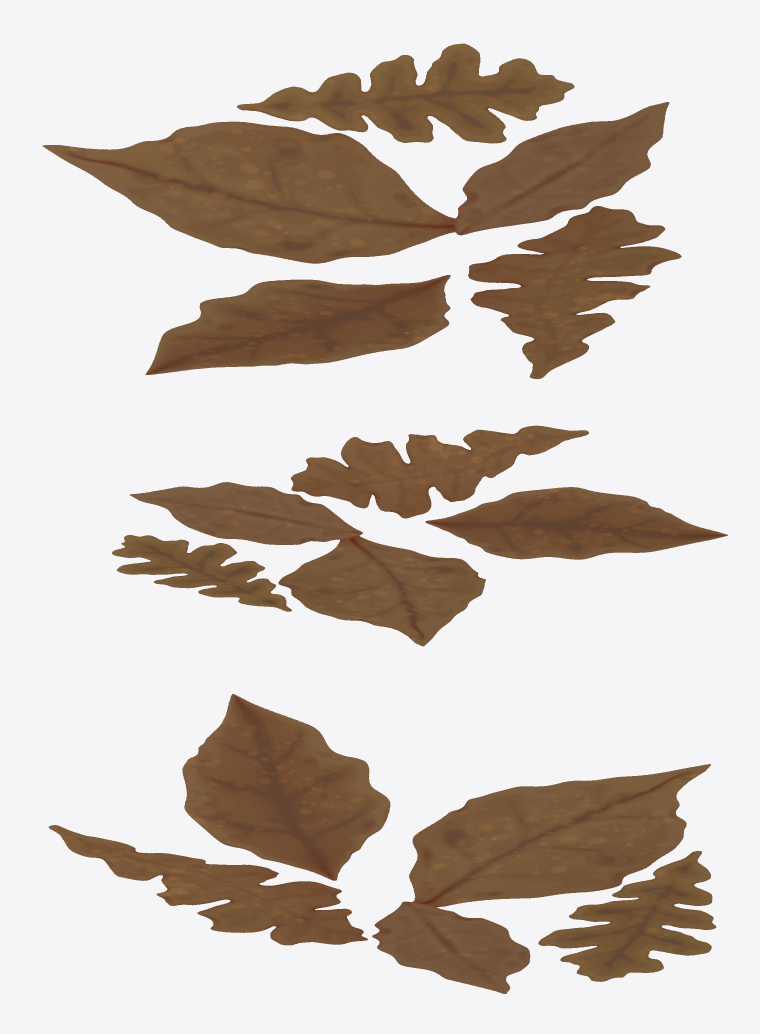
The model's file is MSH_fwOF_Leaves_03.fbx.
3 renders of one model, top to bottom at view 1: azimuth 30°, elevation 25°; view 2: azimuth 150°, elevation 25°; view 3: azimuth 270°, elevation 25°, orthographic. The views are drawn at different scales.
Visible parts, largest first — view 1: MSH_fwOF_Leaves_03; view 2: MSH_fwOF_Leaves_03; view 3: MSH_fwOF_Leaves_03.
Part boxes in pixels (left/top/right/bottom): MSH_fwOF_Leaves_03: left=42, top=43, right=681, bottom=379; MSH_fwOF_Leaves_03: left=112, top=425, right=727, bottom=646; MSH_fwOF_Leaves_03: left=48, top=694, right=716, bottom=993.
Bounding box in the file's own units: 0.3637 × 0.0169 × 0.3325.
